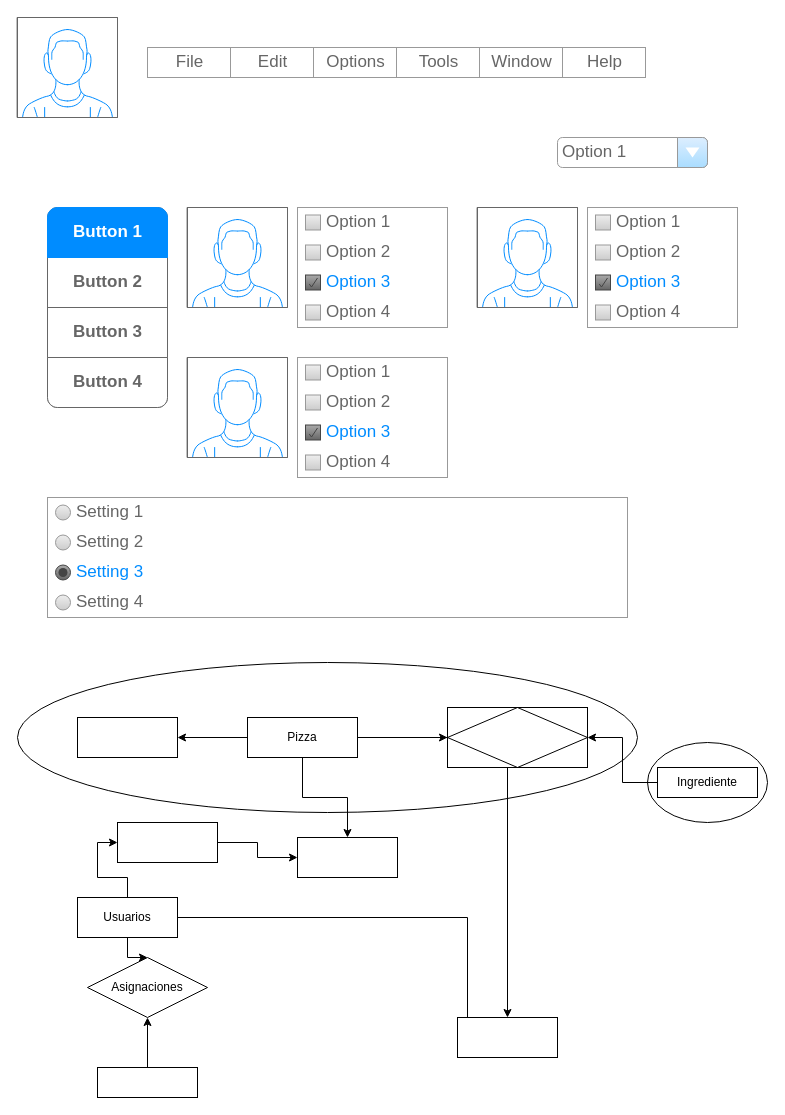
The diagram is 785 pixels wide and 1115 high, and some of its shapes have lost their labels. The centre of each missing label's shape, as x and y in pixels:
"Comentario" goes at [507,1037].
"Líneas de pedido" goes at [347,857].
"Pedidos" goes at [167,842].
"PizzaPhotos" goes at [127,737].
"Receta" goes at [517,737].
"Roles" goes at [147,1082].
